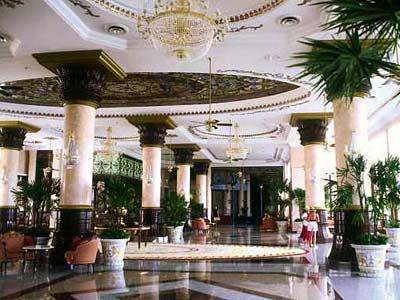Matera: (333, 157, 398, 279), (103, 175, 137, 270)
